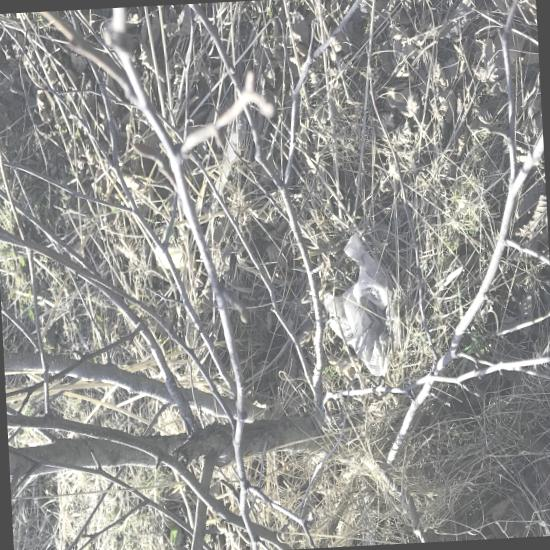Crisp packet: (38, 146, 197, 353)
Garbage bag: (148, 364, 298, 550)
Meal carton: (1, 297, 151, 550)
Normal paper: (135, 420, 241, 540)
Other carton: (110, 295, 222, 392)
Other plastic: (100, 220, 297, 482)
Plastic film: (63, 352, 123, 526)
